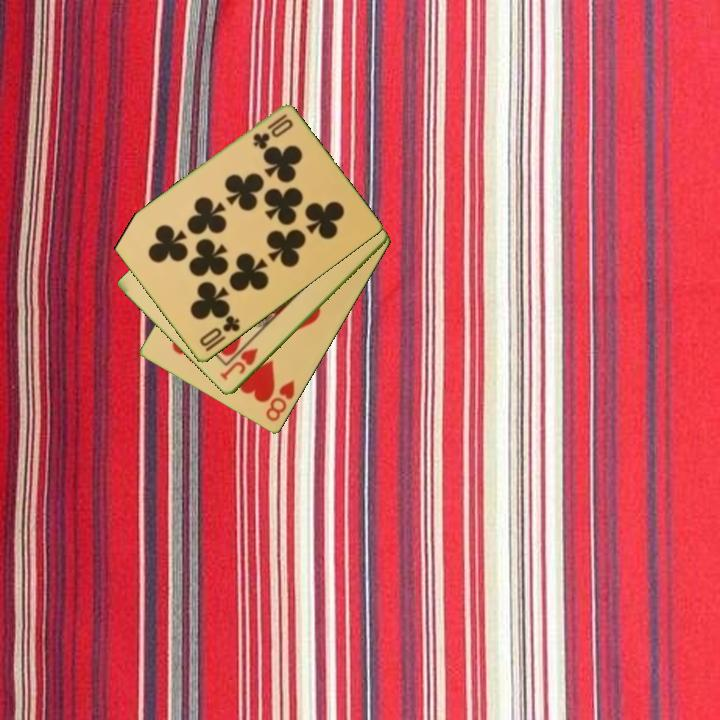10c: (196, 312, 243, 355), (249, 110, 290, 152)
8h: (262, 377, 298, 425)
Jh: (217, 345, 261, 384)
